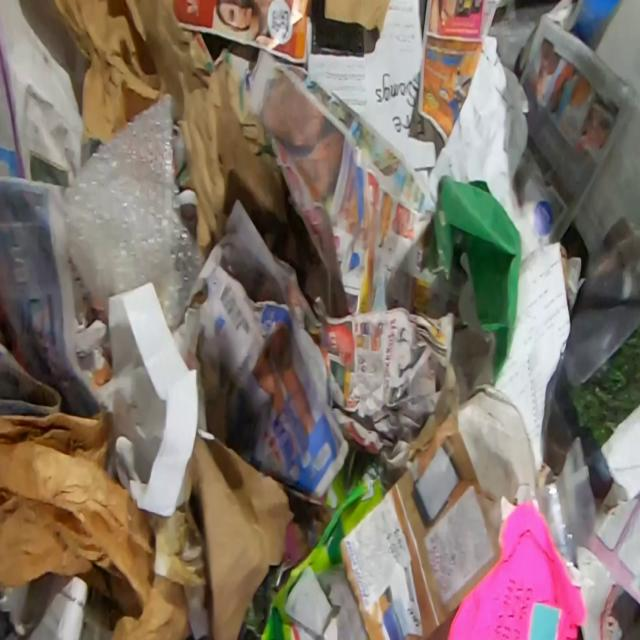cardboard: (48, 0, 288, 256), (338, 383, 537, 640), (184, 377, 298, 640), (260, 455, 395, 640), (283, 563, 370, 640), (322, 0, 391, 35)
soft_plastic: (0, 410, 191, 640), (535, 221, 640, 569), (58, 90, 208, 332)
